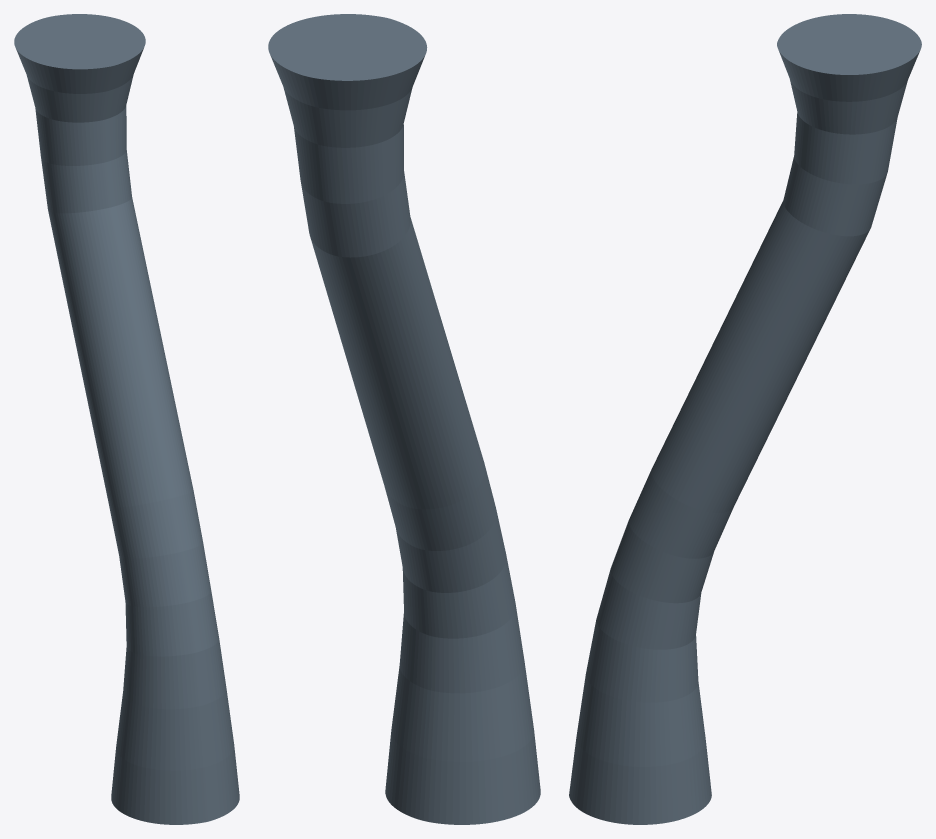
3 renders of one model, left to right at view 1: azimuth 30°, elevation 25°; view 2: azimuth 150°, elevation 25°; view 3: azimuth 270°, elevation 25°, orthographic. The views are drawn at different scales.
Parts seen in each view (by area): view 1: MF0617_4_0; view 2: MF0617_4_0; view 3: MF0617_4_0.
Boxes of the visible parts, box(x1,y1,x2,y2) form: MF0617_4_0: box(14, 14, 239, 824); MF0617_4_0: box(268, 14, 540, 824); MF0617_4_0: box(569, 14, 921, 824).
Bounding box in the file's own units: 101 × 247 × 579.
